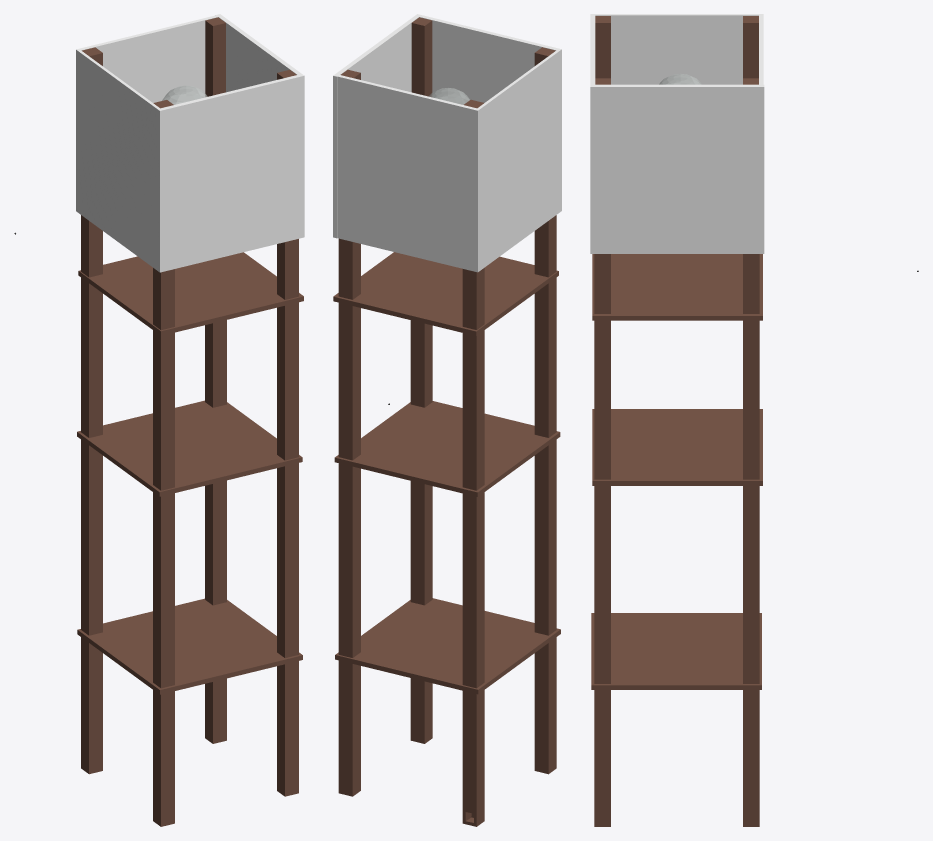
Rendered from lamp.glb.
3 renders of one model, left to right at view 1: azimuth 30°, elevation 25°; view 2: azimuth 150°, elevation 25°; view 3: azimuth 270°, elevation 25°, orthographic. The views are drawn at different scales.
Parts seen in each view (by area): view 1: Node; view 2: Node; view 3: Node.
Boxes of the visible parts, x1,y1,x2,y2 form: Node: [14, 14, 304, 826]; Node: [333, 14, 561, 826]; Node: [590, 14, 918, 826].
Bounding box in the file's own units: 0.9839 × 4.65 × 1.87.
